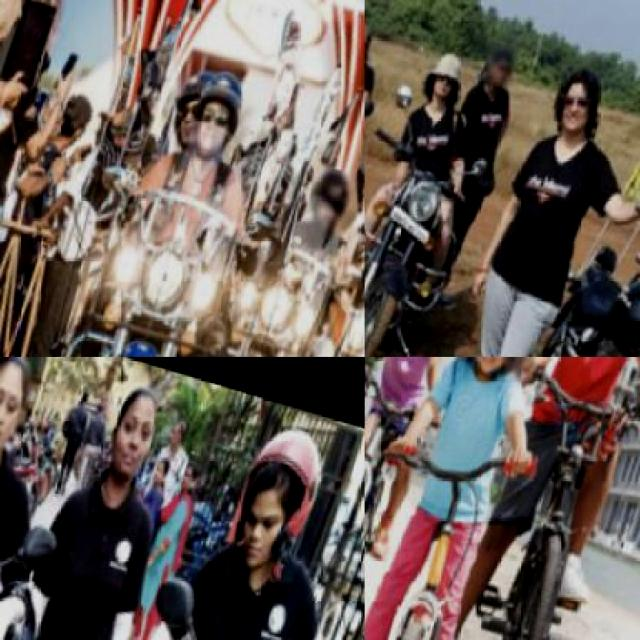With Helmet: (215, 398, 338, 585), (187, 62, 251, 153), (164, 56, 222, 146), (302, 155, 362, 236)
Without Helmet: (546, 52, 614, 142), (0, 357, 49, 466), (422, 41, 470, 102), (480, 36, 523, 90), (365, 12, 380, 62)
